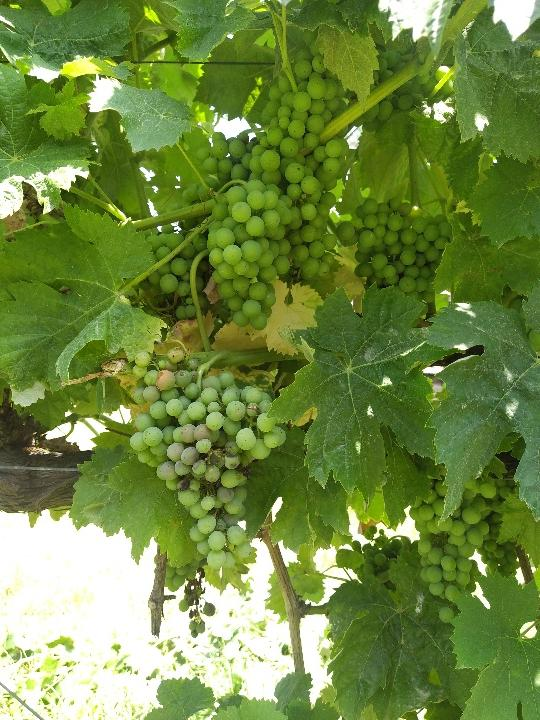grape: (199, 47, 350, 331), (131, 353, 288, 570), (406, 473, 519, 625), (343, 201, 454, 320)
